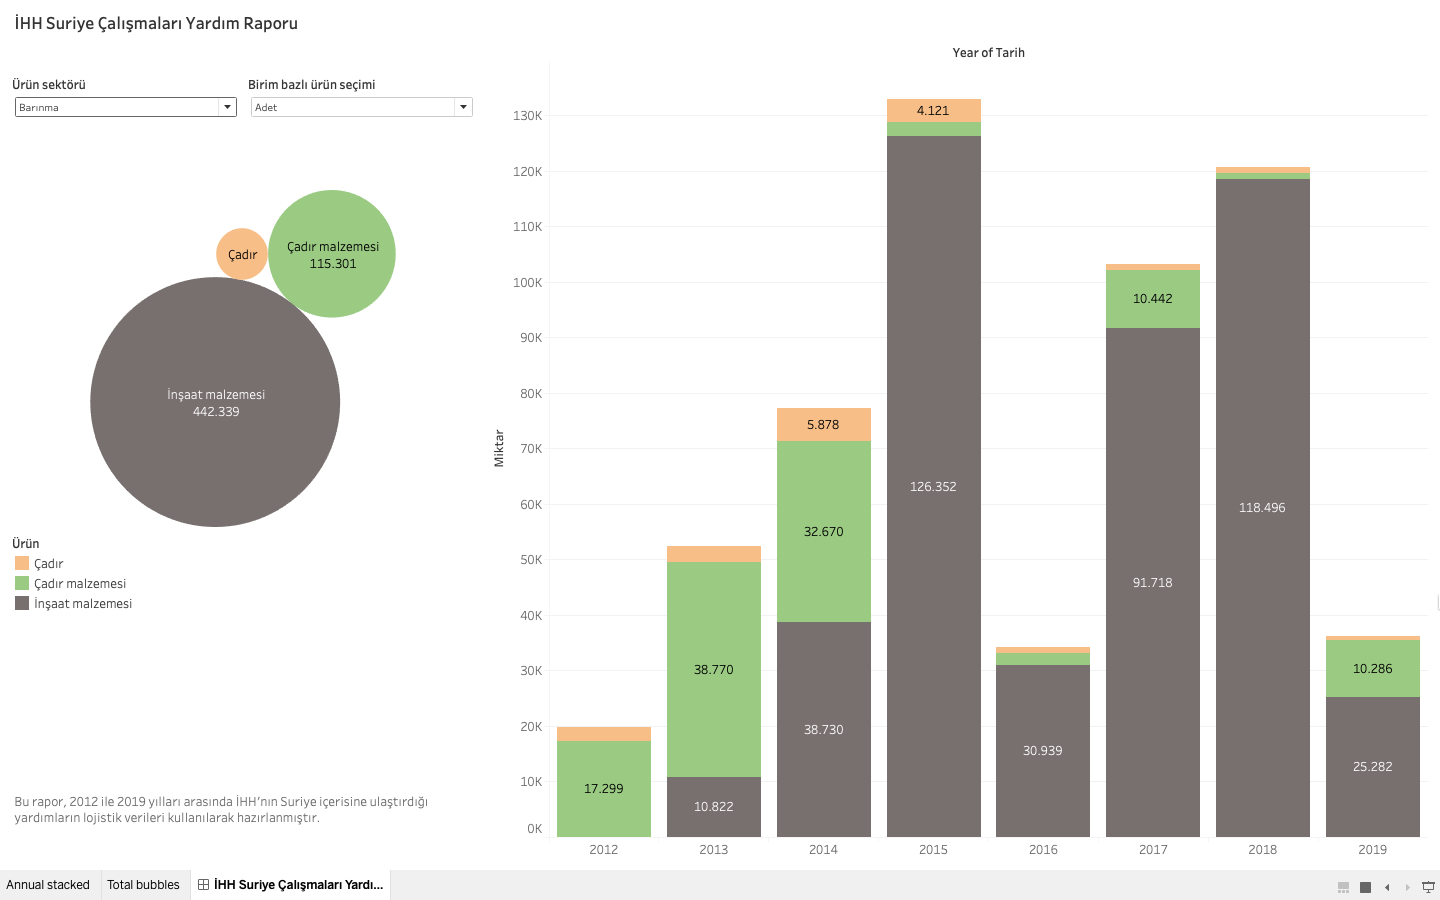

This screenshot's page, from the dashboard's own definition file:
{"tool":"tableau","page":{"name":"İHH Suriye Çalışmaları Yardım Raporu","canvas":[1000,1000],"units":"permille","ordinal":0},"visuals":[{"type":"title","box":[6.5,9.9,987,37.1]},{"type":"blank","box":[6.5,47,326.8,39.4]},{"type":"worksheet","title":"Annual stacked","mark":"Bar","rows":["Miktar"],"cols":["Tarih"],"box":[333.3,47,660.2,943.1]},{"type":"filter","title":"Total bubbles","param":"[federated.1mxeqqh1x6fw6u15vb8dy1q2r8ap].[none:Sektör:nk]","box":[6.5,86.4,163.3,90.4]},{"type":"filter","title":"Total bubbles","param":"[federated.1mxeqqh1x6fw6u15vb8dy1q2r8ap].[none:Birim:nk]","box":[169.8,86.4,163.5,90.4]},{"type":"blank","box":[6.5,176.8,326.8,39.6]},{"type":"worksheet","title":"Total bubbles","mark":"Circle","box":[6.5,216.4,326.8,394.6]},{"type":"legend","title":"Total bubbles","param":"[federated.1mxeqqh1x6fw6u15vb8dy1q2r8ap].[none:Ürün:nk]","box":[6.5,611.1,326.8,258.9]},{"type":"text","box":[6.5,869.9,326.8,120.2]}]}

Visuals, with their boxes on the dashboard's canvas, which has no fixed pixel size, in thousandths of its width and height (x1, y1, x2, y2). These are canvas units, not pixel positions in the 1440x900 screenshot, which may show the page scaled, cropped or inside an application window:
title: bbox=(6, 10, 994, 47)
blank: bbox=(6, 47, 333, 86)
"Annual stacked" worksheet (Bar marks): bbox=(333, 47, 994, 990)
"Total bubbles" filter: bbox=(6, 86, 170, 177)
"Total bubbles" filter: bbox=(170, 86, 333, 177)
blank: bbox=(6, 177, 333, 216)
"Total bubbles" worksheet (Circle marks): bbox=(6, 216, 333, 611)
"Total bubbles" legend: bbox=(6, 611, 333, 870)
text: bbox=(6, 870, 333, 990)
